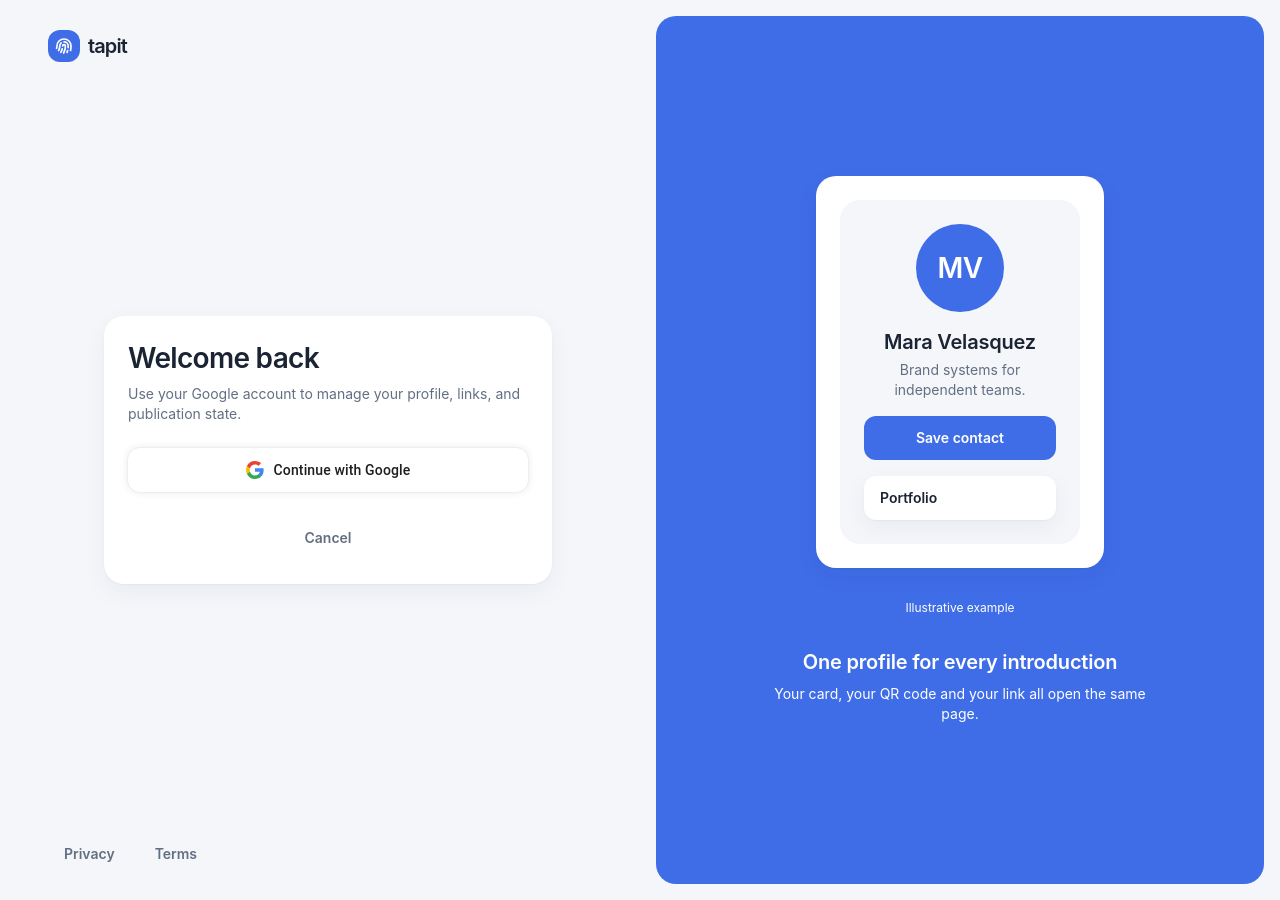
Test: Google OAuth login › holds a busy, disabled Google button while sign-in is in flight
Click the button "Continue with Google". click: point(328, 470)
box: [128,448,528,492]
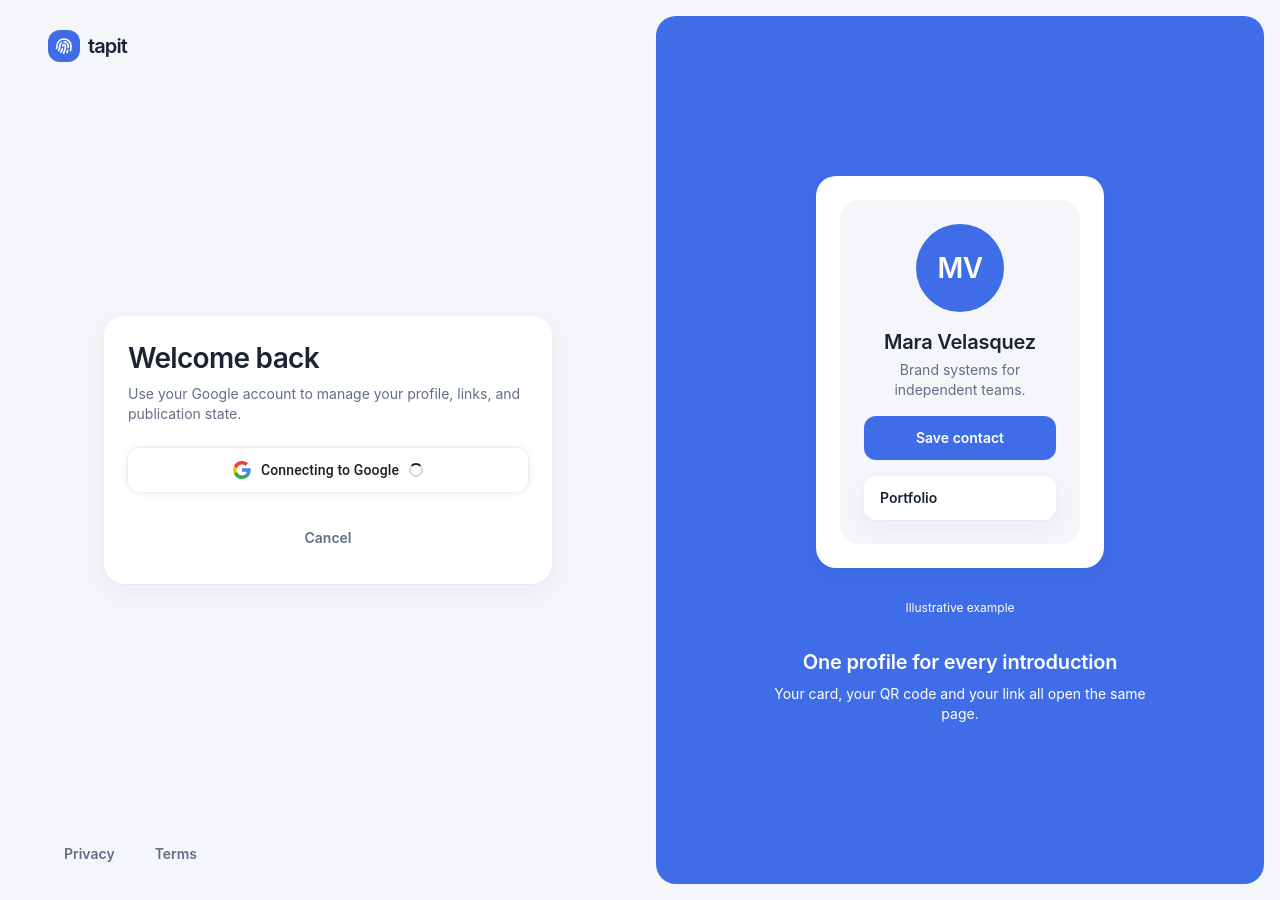
Expected: the button "Connecting to Google" is disabled, [128,448,528,492]
